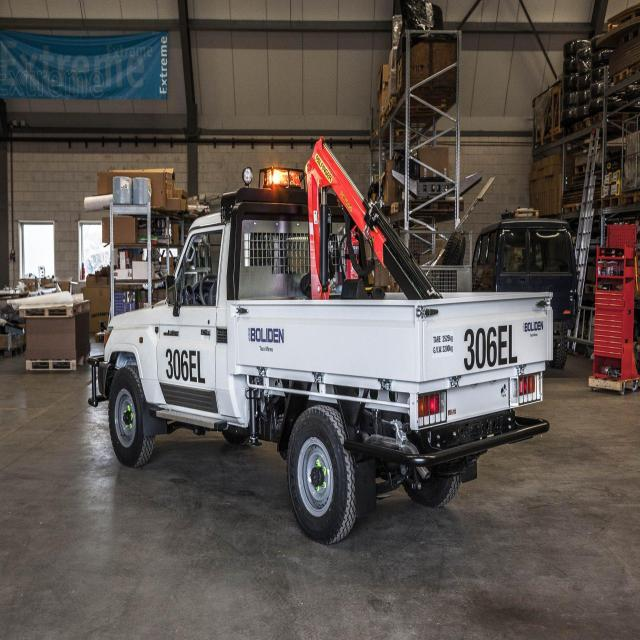light_vehicle: (92, 175, 557, 548)
